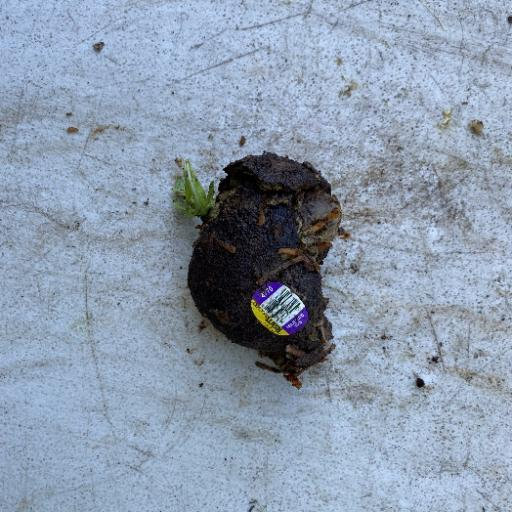Waste: (172, 149, 344, 386)
